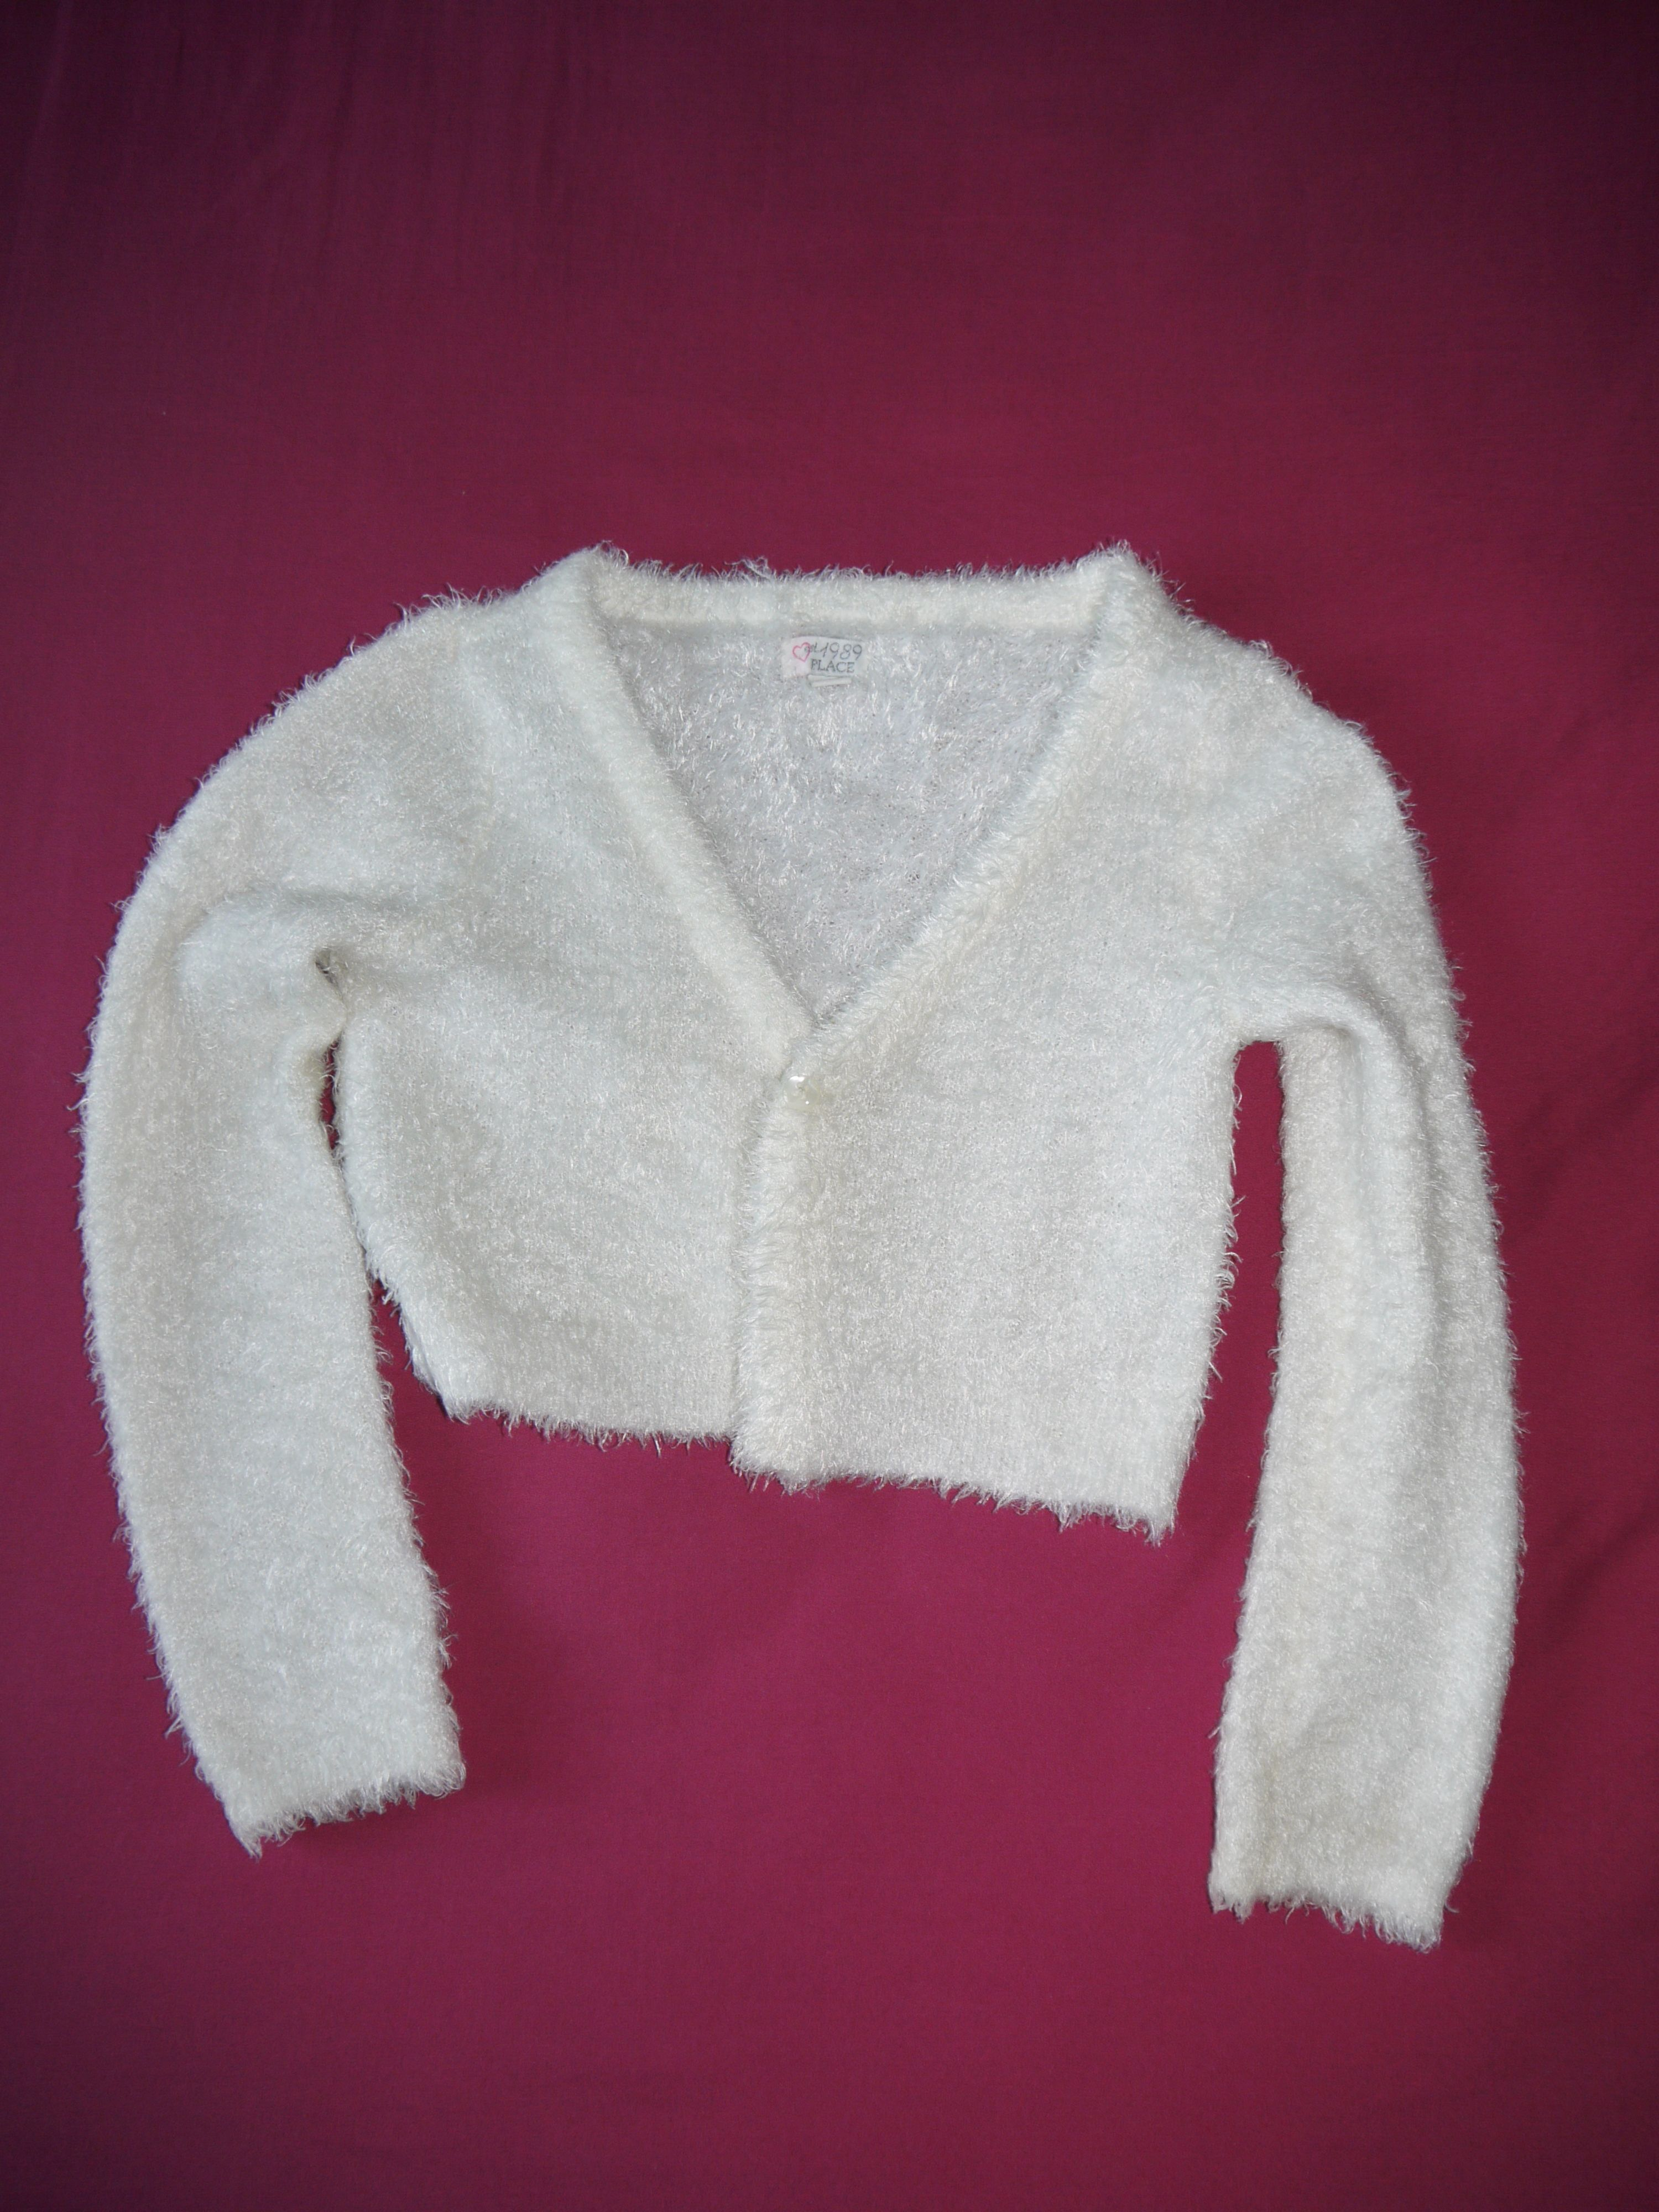clothes: (66, 500, 1504, 1947)
